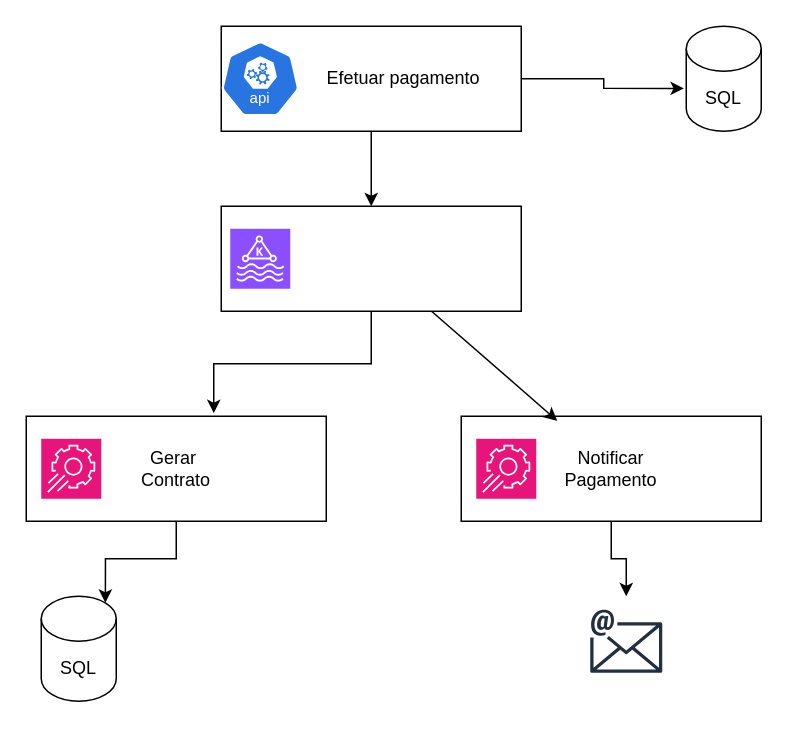
Image size: 788x744. Some labels were removed from this diagram. The shapes that lost their labels are listed below. From the top down, each one's box as (x1, y1, x2, y2) in pixels, then its label:
(220, 205, 521, 311): Tópico Pagamento
(580, 595, 671, 686): Email
